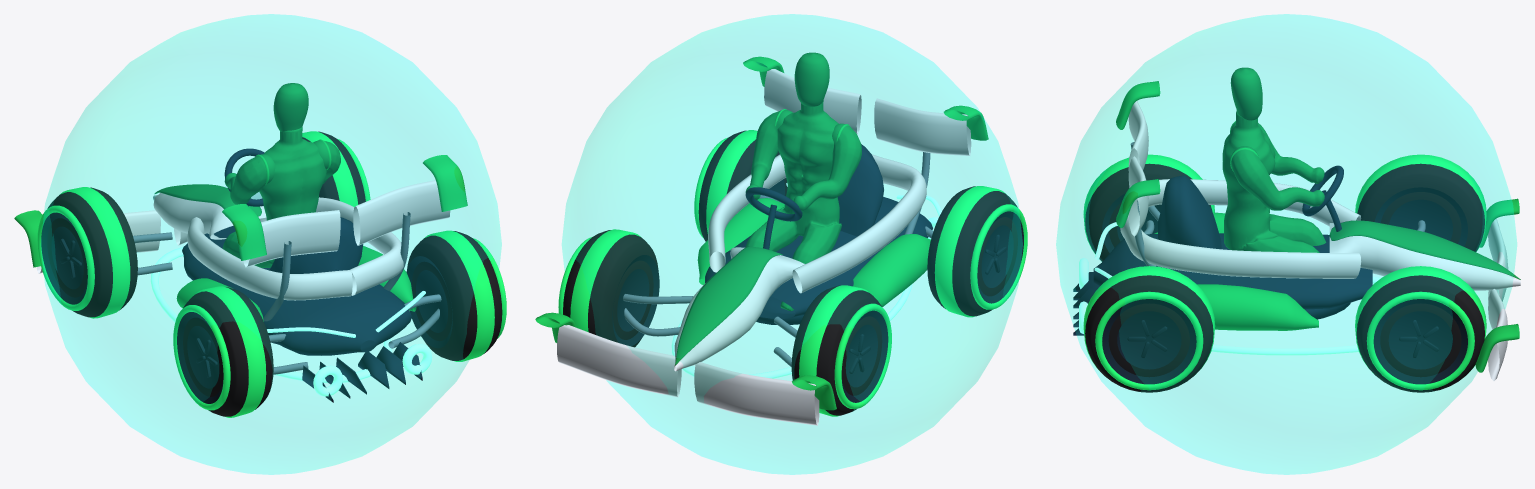
File: kinetic.glb
3 renders of one model, left to right at view 1: azimuth 30°, elevation 25°; view 2: azimuth 150°, elevation 25°; view 3: azimuth 270°, elevation 25°, orthographic.
Parts seen in each view (by area): view 1: kinetic:aegis-shield, kinetic:coachwork-batch.001, kinetic:coachwork-batch, kinetic:rounded-wheel-shell.003, kinetic:torso, kinetic:rounded-wheel-shell, kinetic:rounded-wheel-shell.002, kinetic:coachwork-batch.002, kinetic:translucent-tire-band.002, kinetic:translucent-tire-band, kinetic:translucent-tire-band.003, kinetic:recessed-colored-hub (+18 smaller); view 2: kinetic:aegis-shield, kinetic:coachwork-batch.001, kinetic:torso, kinetic:coachwork-batch, kinetic:rounded-wheel-shell.001, kinetic:rounded-wheel-shell.002, kinetic:bonnet-enamel-inlay, kinetic:rounded-wheel-shell, kinetic:sculpted-coachwork, kinetic:translucent-tire-band.002, kinetic:arm-l-mesh, kinetic:recessed-colored-hub (+18 smaller); view 3: kinetic:aegis-shield, kinetic:coachwork-batch.001, kinetic:coachwork-batch, kinetic:torso, kinetic:rounded-wheel-shell.003, kinetic:rounded-wheel-shell.001, kinetic:rounded-wheel-shell, kinetic:recessed-colored-hub.003, kinetic:recessed-colored-hub.001, kinetic:sculpted-coachwork.001, kinetic:bonnet-enamel-inlay, kinetic:rounded-wheel-shell.002 (+18 smaller).
Part boxes in pixels (x1,y1,x2,y2): kinetic:aegis-shield: (41, 14, 501, 474); kinetic:coachwork-batch.001: (36, 180, 450, 300); kinetic:coachwork-batch: (182, 205, 422, 402); kinetic:rounded-wheel-shell.003: (406, 231, 502, 360); kinetic:torso: (222, 127, 326, 268); kinetic:rounded-wheel-shell: (47, 187, 137, 317); kinetic:rounded-wheel-shell.002: (183, 287, 273, 416); kinetic:coachwork-batch.002: (133, 212, 441, 374); kinetic:translucent-tire-band.002: (195, 286, 266, 417); kinetic:translucent-tire-band: (60, 187, 130, 318); kinetic:translucent-tire-band.003: (423, 230, 494, 361); kinetic:recessed-colored-hub: (41, 212, 87, 304); kinetic:aegis-shield: (562, 14, 1022, 474); kinetic:coachwork-batch.001: (557, 69, 971, 425); kinetic:torso: (745, 100, 841, 311); kinetic:coachwork-batch: (705, 144, 932, 324); kinetic:rounded-wheel-shell.001: (563, 230, 658, 347); kinetic:rounded-wheel-shell.002: (927, 186, 1017, 316); kinetic:bonnet-enamel-inlay: (675, 246, 782, 365); kinetic:rounded-wheel-shell: (791, 285, 882, 415); kinetic:sculpted-coachwork: (853, 234, 930, 306); kinetic:translucent-tire-band.002: (934, 186, 1005, 317); kinetic:arm-l-mesh: (793, 123, 861, 211); kinetic:recessed-colored-hub: (841, 310, 888, 402); kinetic:aegis-shield: (1056, 14, 1516, 474); kinetic:coachwork-batch.001: (1120, 101, 1520, 380); kinetic:coachwork-batch: (1073, 175, 1372, 335); kinetic:torso: (1222, 111, 1326, 252); kinetic:rounded-wheel-shell.003: (1085, 275, 1213, 392); kinetic:rounded-wheel-shell.001: (1356, 275, 1484, 392); kinetic:rounded-wheel-shell: (1357, 163, 1484, 251); kinetic:recessed-colored-hub.003: (1102, 299, 1196, 384); kinetic:recessed-colored-hub.001: (1373, 299, 1467, 384); kinetic:sculpted-coachwork.001: (1197, 284, 1318, 330); kinetic:bonnet-enamel-inlay: (1329, 220, 1520, 279); kinetic:rounded-wheel-shell.002: (1085, 163, 1212, 261).
Size of the model in its own units: 4.3 by 4.3 by 4.33.
